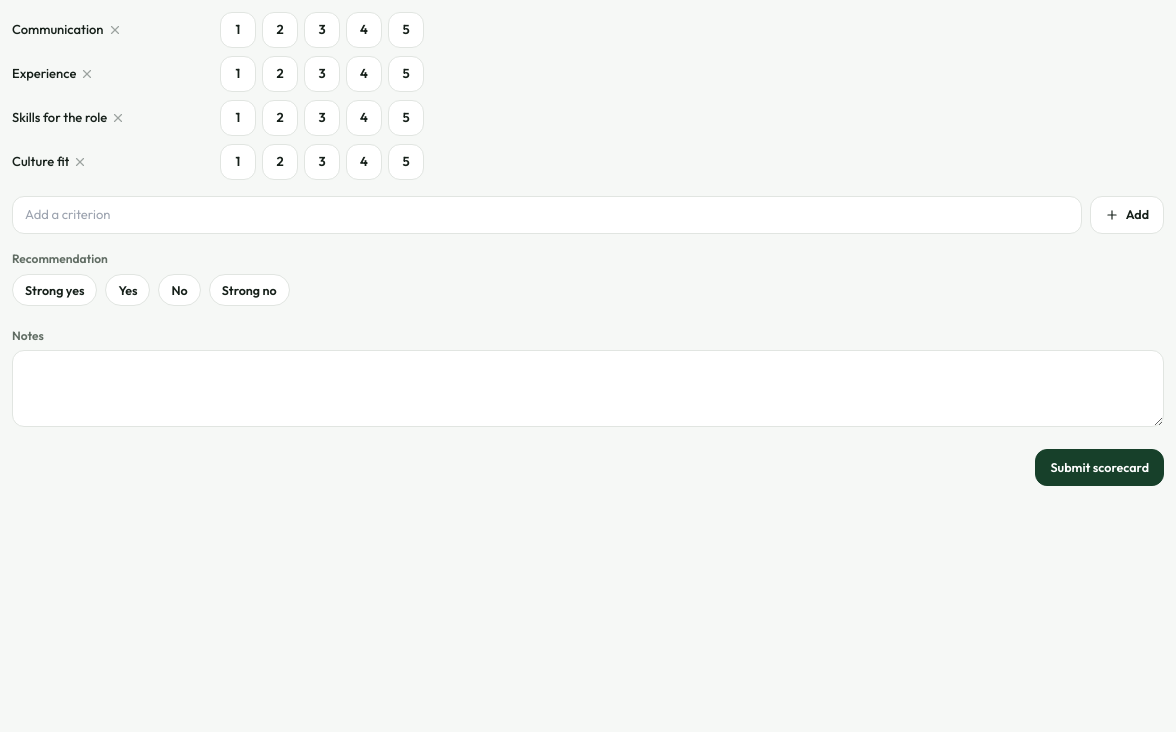
Scenario: ScorecardForm › needs a score and a recommendation, then sends the scored criteria
Later steps or results of the test are not shown.
Click the button "Submit scorecard".
click(1100, 467)  # box [1036,449,1164,486]
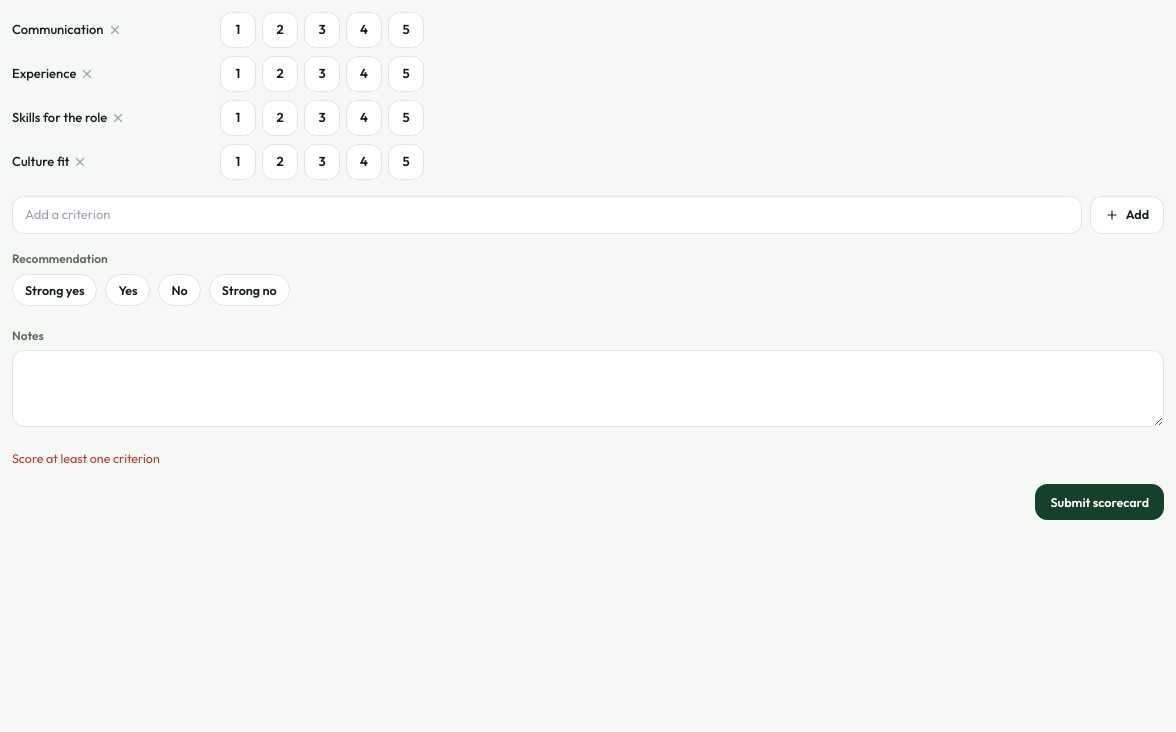
expect the message reads "Score at least one criterion": met, box [12,450,160,466]
Click the radio button named "Communication: 4".
click(364, 30)  # box [346,12,382,48]
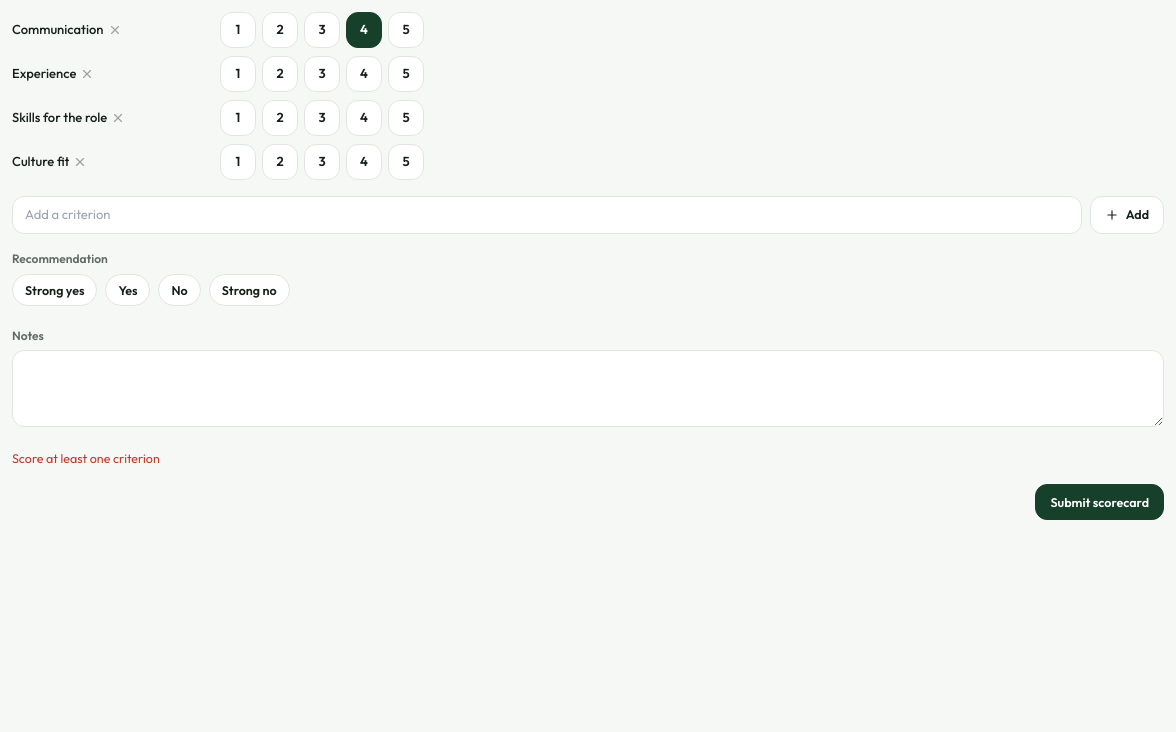
Click the button "Submit scorecard".
click(1100, 502)  # box [1036,484,1164,520]
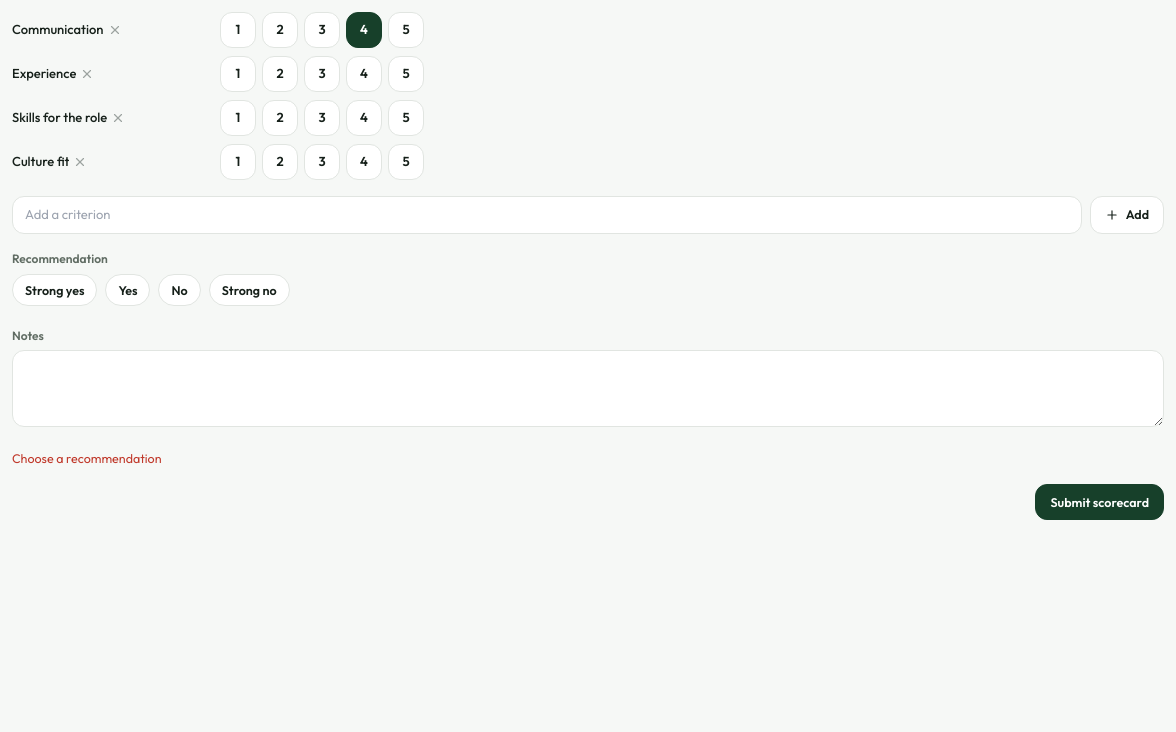
expect the message reads "Choose a recommendation": met, box [12,450,162,466]
